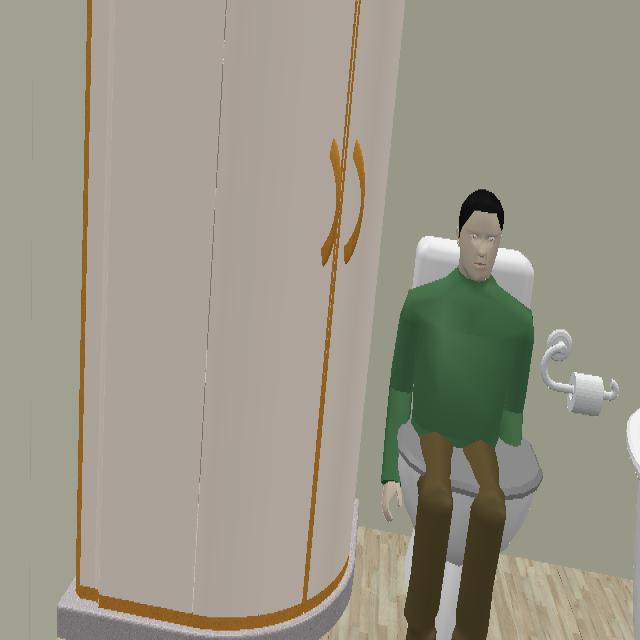person: (381, 191, 534, 640)
shower: (53, 0, 409, 640)
toilet: (435, 449, 480, 640), (495, 437, 544, 553), (397, 419, 426, 593), (492, 248, 533, 311), (413, 236, 460, 288)
